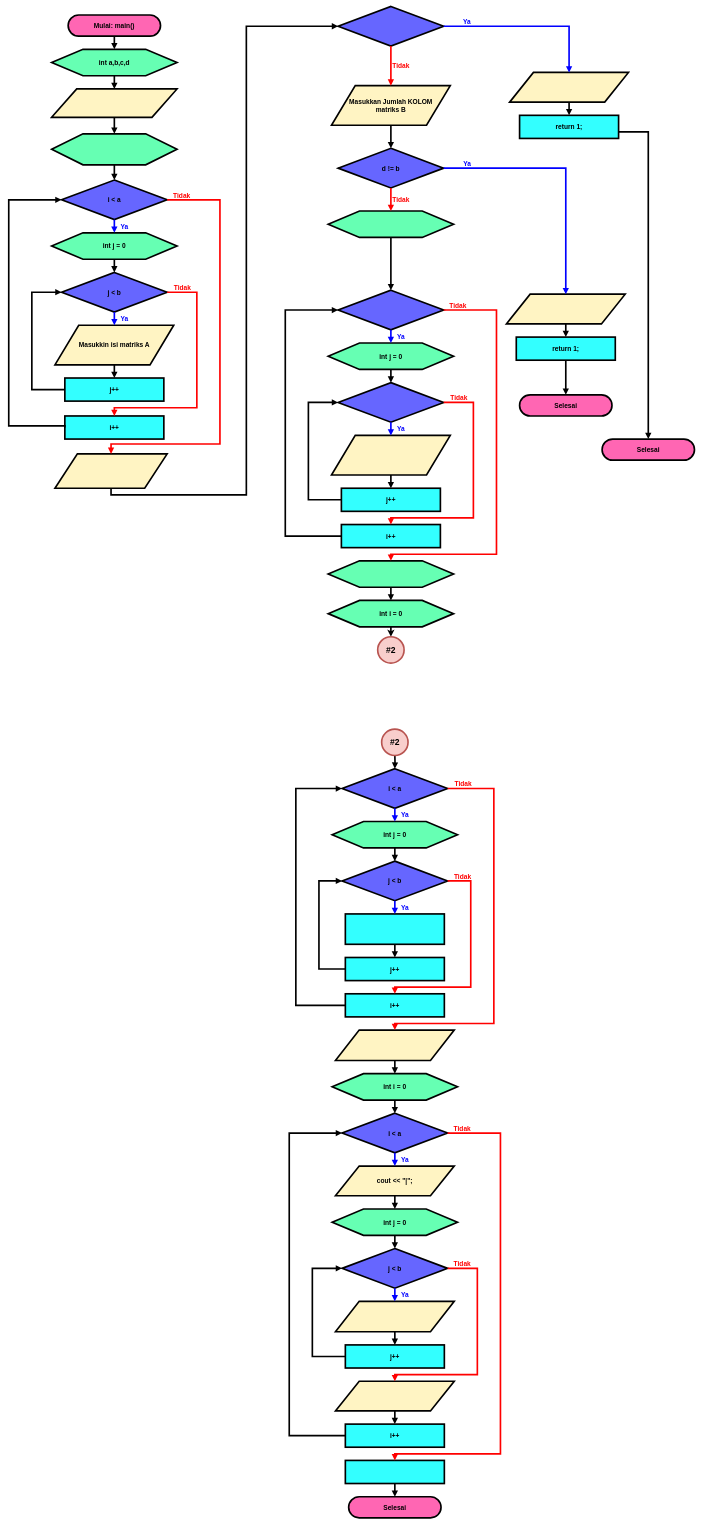
The diagram is 701 pixels wide and 1524 high, and some of its shapes have lost their labels. Here are the shapes that lost their labels. From the top down, the centre of each, then its label:
(390,26): c != a
(114,103): Masukkan Jumlah baris dan kolom matriks A
(569,87): "Jumlah baris harus sama!"
(114,149): int A[10][10] int i = 0
(390,224): int B[10][10] int i = 0
(390,309): i < c
(565,309): "jumlah kolom harus sama"
(390,402): j < d
(111,471): Masukkan jumlah BARIS matriks B
(390,455): Masuk isi matriks B
(390,574): int Hasil[10][10]
(394,929): Hasil[i][j] = A[i][j] + B[i][j];
(394,1045): "Hasil Penjumlahan: "
(394,1316): Print Hasil
(394,1396): cout << "|" << endl;
(394,1471): return 0;
